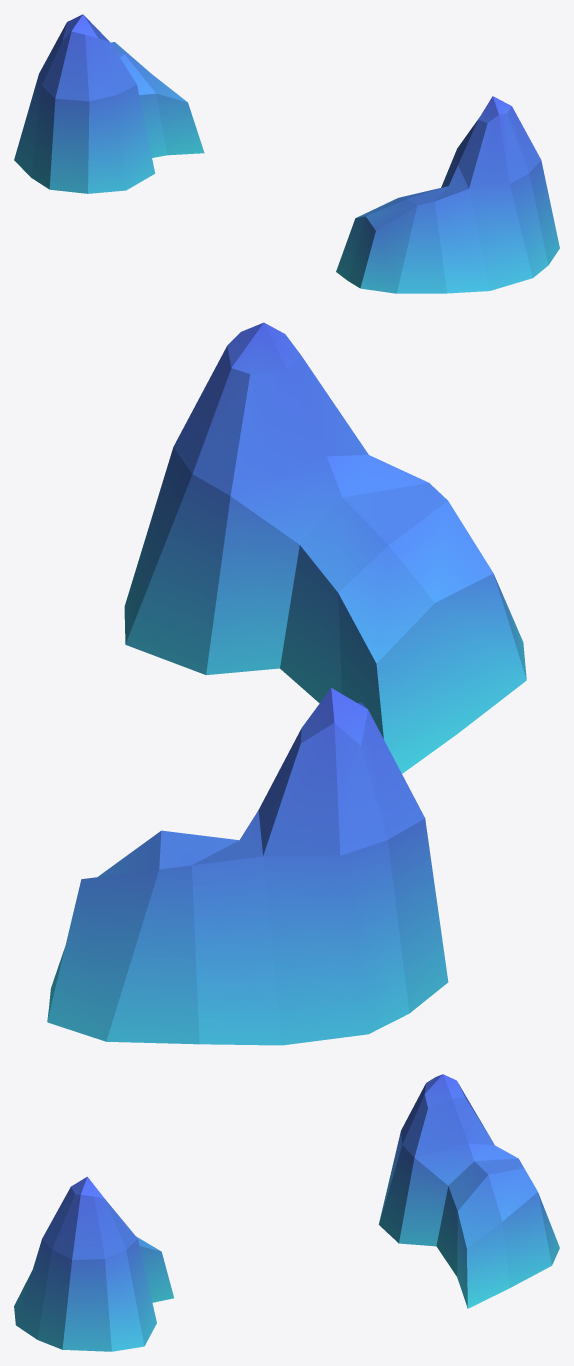
The model's file is icebergs.fbx.
The picture shows the model from 3 angles, top to bottom: view 1: azimuth 30°, elevation 25°; view 2: azimuth 150°, elevation 25°; view 3: azimuth 270°, elevation 25°; orthographic projection. The views are drawn at different scales.
Visible parts, largest first — view 1: Cube.028, Cube.002; view 2: Cube.028, Cube.002; view 3: Cube.002, Cube.028.
Part boxes in pixels (x1,y1,x2,y2): Cube.028: (336, 96, 559, 293); Cube.002: (14, 14, 204, 193); Cube.028: (124, 322, 526, 773); Cube.002: (47, 688, 448, 1045); Cube.002: (379, 1074, 559, 1308); Cube.028: (14, 1176, 173, 1351).
Bounding box in the file's own units: 18617 × 9809 × 28018.
